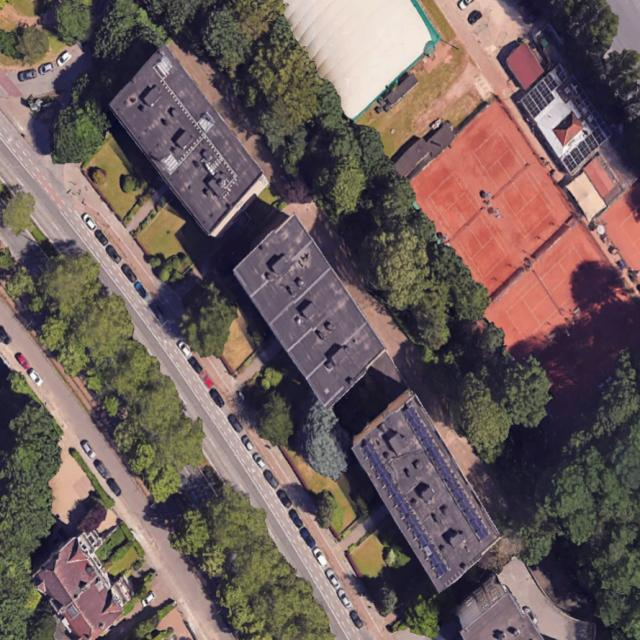immeuble: (97, 45, 280, 245), (337, 386, 509, 595), (224, 211, 396, 413), (443, 573, 543, 640)
